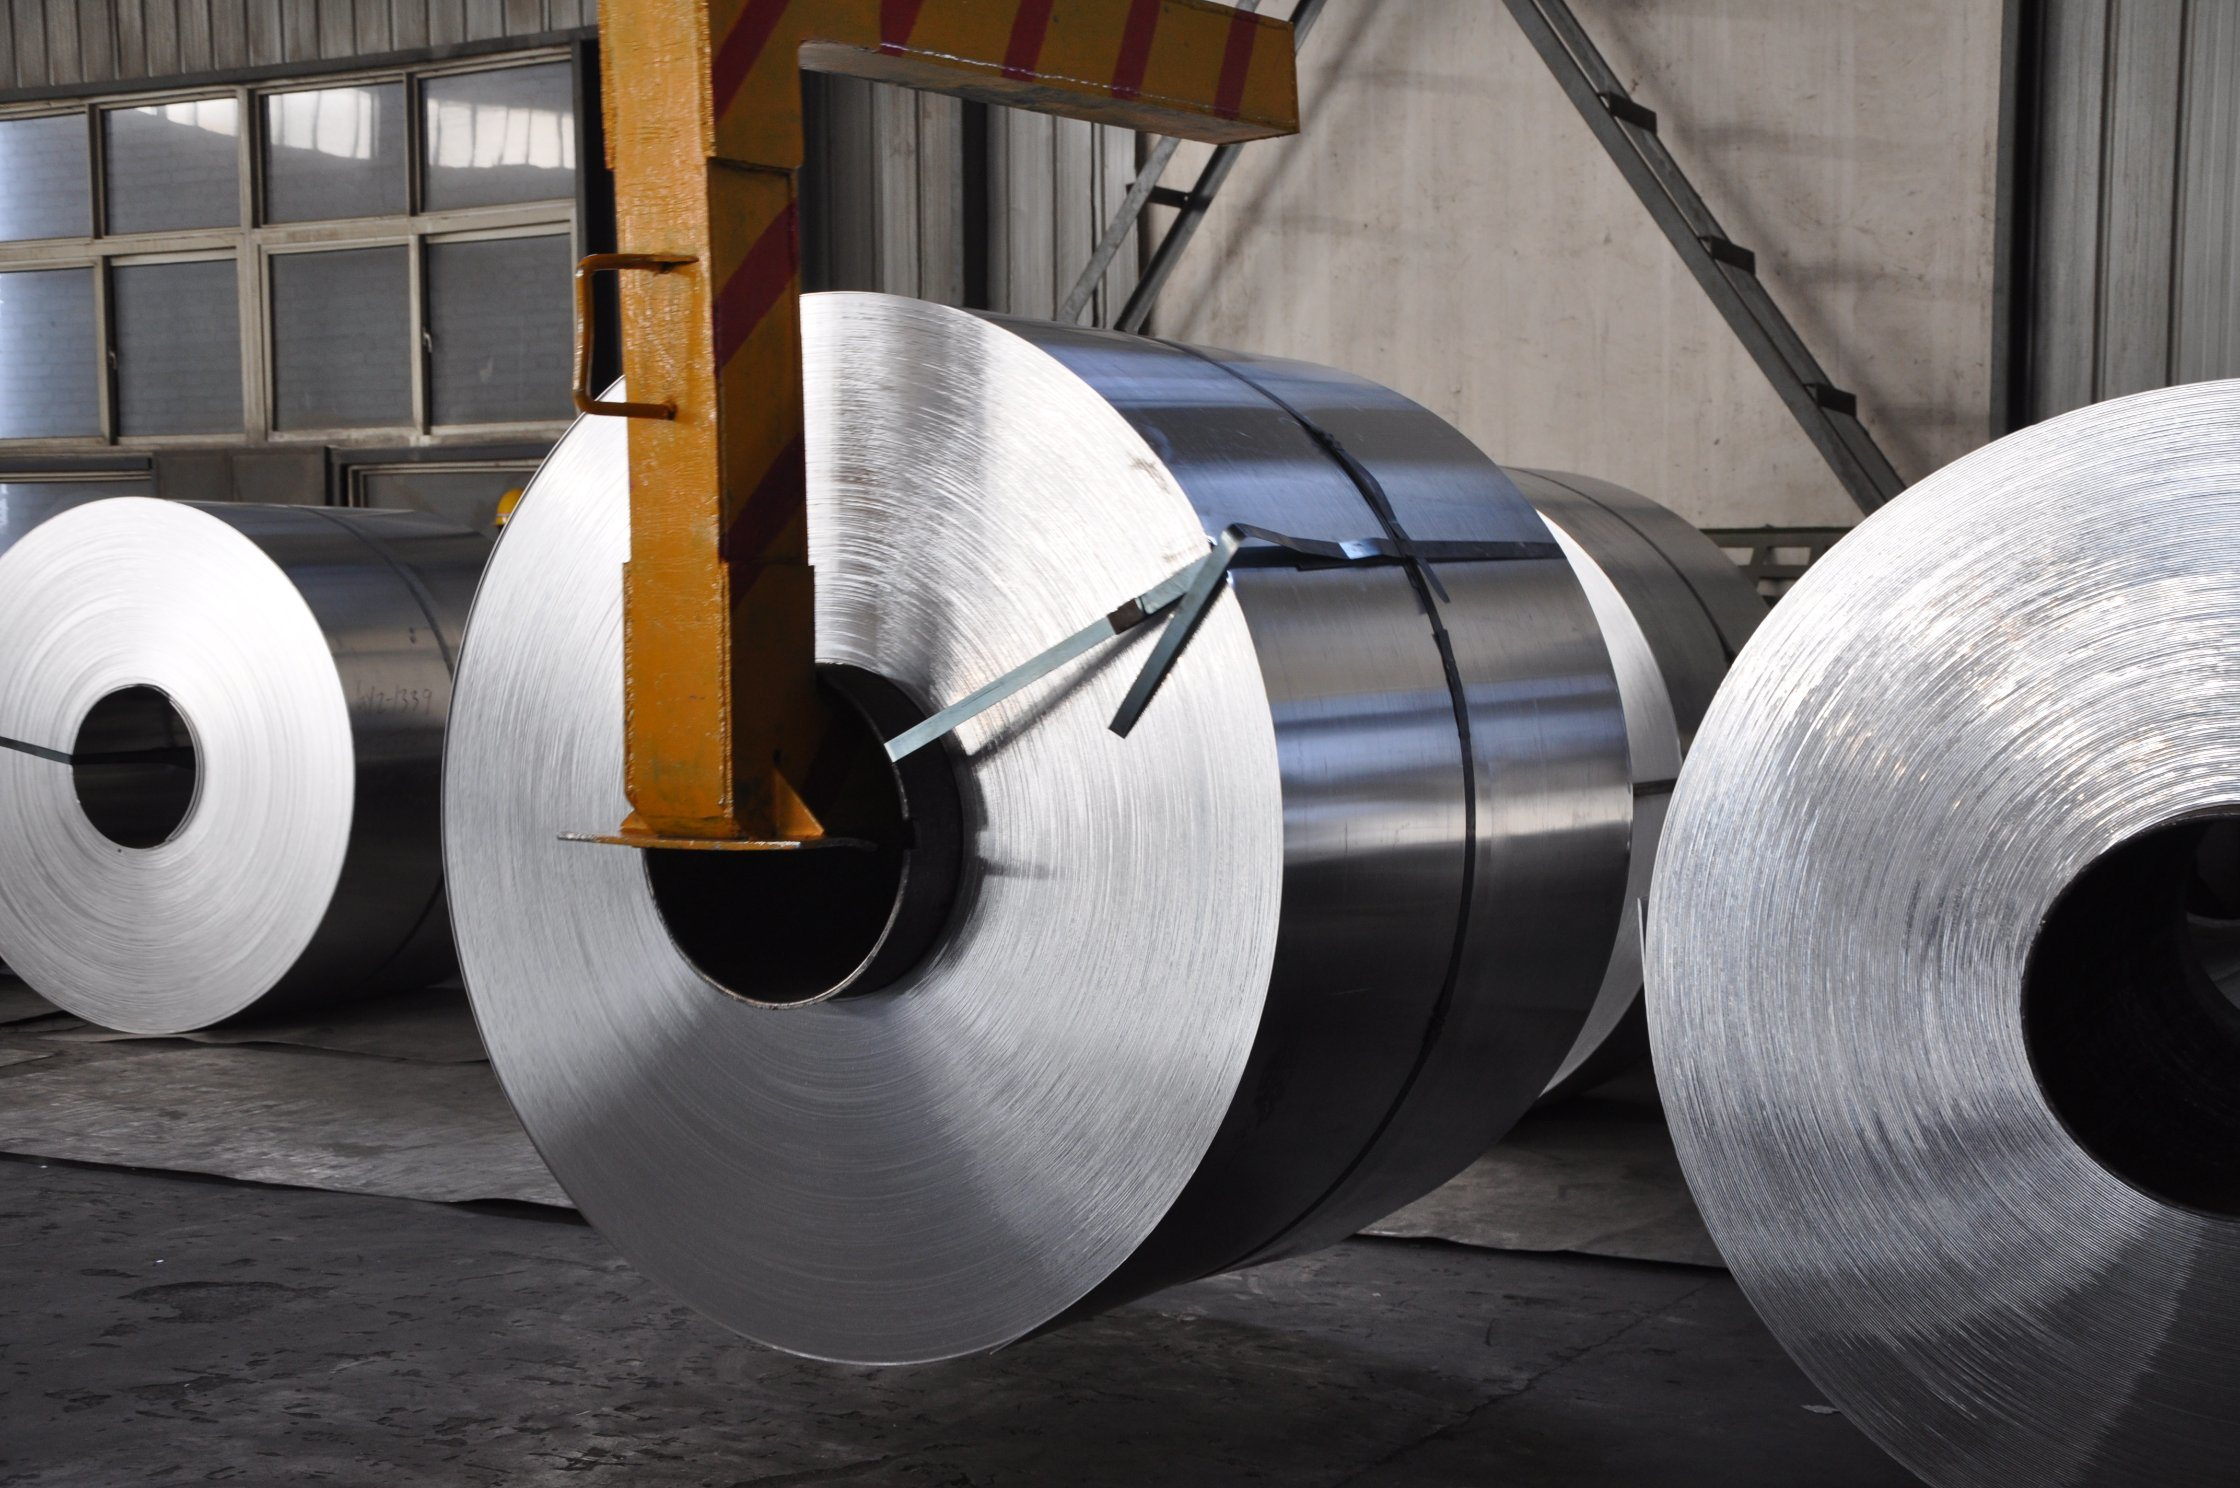steel-coil: (422, 316, 1642, 1244), (422, 274, 1548, 1244), (1576, 234, 2238, 1475), (1617, 312, 2232, 1234), (10, 463, 403, 1083)
